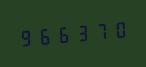nine: (17, 24, 34, 50)
seven: (90, 18, 107, 43)
six: (54, 21, 71, 47), (35, 23, 52, 48)
three: (72, 20, 89, 45)
zero: (108, 16, 125, 42)
